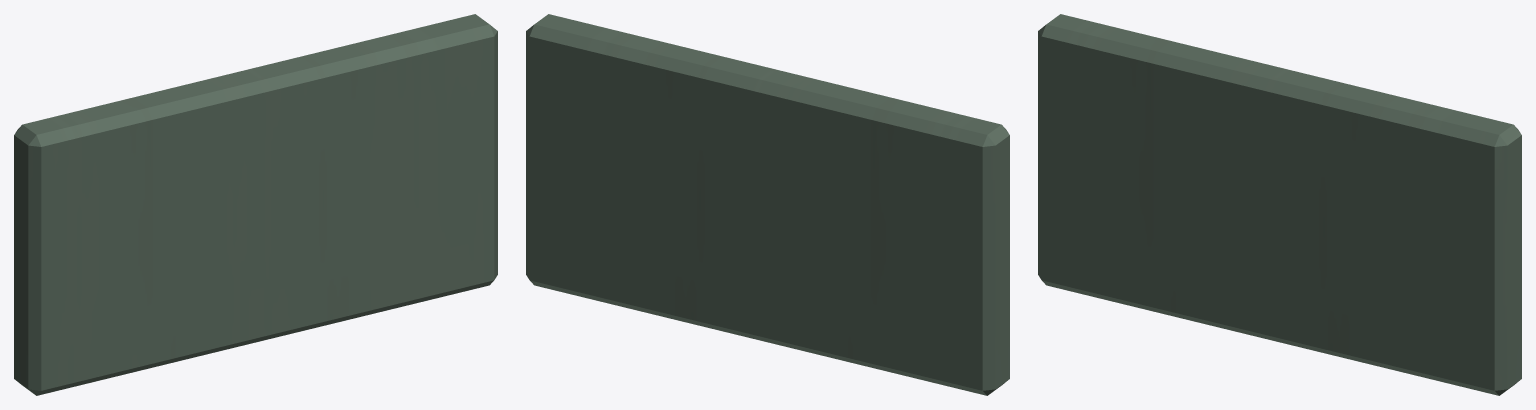
The model's file is room_number_plaque_candidate.glb.
3 views of the same model, side by side, from view 1: azimuth 30°, elevation 25°; view 2: azimuth 150°, elevation 25°; view 3: azimuth 330°, elevation 25° (orthographic).
Visible parts, largest first — view 1: INSTANCE__room_number_plaque__018; view 2: INSTANCE__room_number_plaque__018; view 3: INSTANCE__room_number_plaque__018.
Boxes of the visible parts, <box> form: INSTANCE__room_number_plaque__018: <box>14,14,497,395</box>; INSTANCE__room_number_plaque__018: <box>526,14,1009,395</box>; INSTANCE__room_number_plaque__018: <box>1038,14,1521,395</box>.
Size of the model in its own units: 0.32 by 0.17 by 0.028.
Materials: 1 (1 with a texture image).
